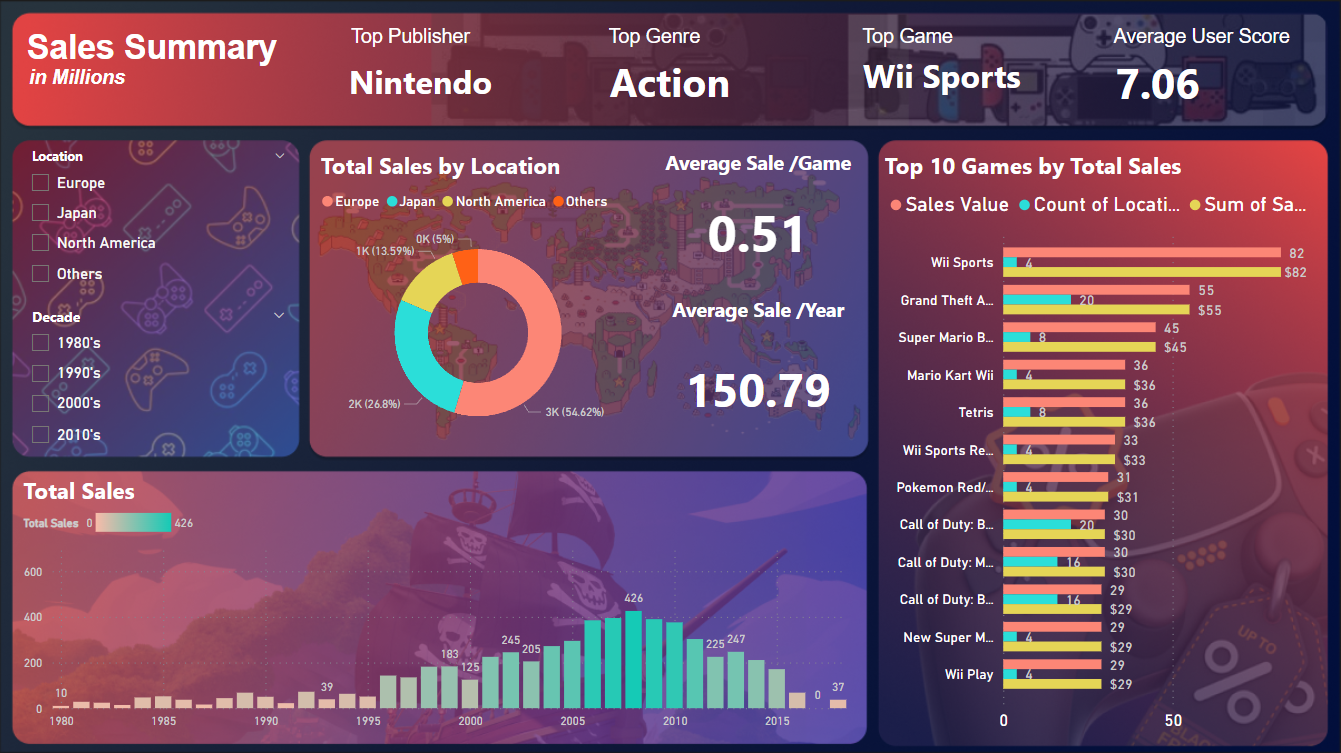

What the dashboard file says about the page in this screenshot:
{"tool":"powerbi","page":{"name":"Sales Summary","canvas":[1280,720],"ordinal":0},"visuals":[{"type":"columnChart","title":"Total Sales","fields":{"Y":["Sales.Total Sales"],"Category":["Games.Year_of_Release"]},"box":[26.2,453.4,798.5,249.9],"z":0},{"type":"card","title":"Top Publisher","fields":{"Values":["Min(Games.Publisher)"]},"box":[291.6,21.4,232.1,109.5],"z":2000},{"type":"textbox","box":[19.7,10.6,254.8,109.2],"z":3000},{"type":"card","title":"Top Genre","fields":{"Values":["Min(Games.Genre)"]},"box":[533.2,21.4,177.3,109.5],"z":5000},{"type":"card","title":"Average Sale /Year","fields":{"Values":["Averages.Avg Sales /Year"]},"box":[630.7,283.2,188,151.1],"z":6000},{"type":"card","title":"Average Sale /Game","fields":{"Values":["Averages.Avg Sales /Game"]},"box":[630.7,144,188,132.1],"z":7000},{"type":"card","title":"Top Game","fields":{"Values":["Min(Games.Game Name)"]},"box":[724.8,22.6,338,109.5],"z":8000},{"type":"card","title":"Average User Score","fields":{"Values":["Averages.Avg Critic Score"]},"box":[1073.5,22.6,188,109.5],"z":9000},{"type":"donutChart","fields":{"Category":["Sales.Location ID"],"Y":["Sales.Total Sales"]},"box":[303.5,144,309.4,289.2],"z":10000},{"type":"clusteredBarChart","title":"Top 10 Games by Total Sales","fields":{"Category":["Games.Game Name"],"Y":["Sum(Sales.Sales Value)","CountNonNull(Sales.Location ID)","Sum(Games.Sale of Game)"]},"box":[840.2,144,421.3,559.3],"z":11000},{"type":"slicer","fields":{"Values":["Sales.Location"]},"box":[32.1,144,254.7,145.2],"z":11001},{"type":"slicer","fields":{"Values":["Games.Decade"]},"box":[32,289,255,150],"z":11002}]}

Visuals, with their boxes in screenshot pixels (x1, y1, x2, y2), scaled from the page's 1280x720 canvas onto the 1341x753 screenshot:
"Total Sales" columnChart: 27,474,864,736
"Top Publisher" card: 305,22,549,137
textbox: 21,11,288,125
"Top Genre" card: 559,22,744,137
"Average Sale /Year" card: 661,296,858,454
"Average Sale /Game" card: 661,151,858,289
"Top Game" card: 759,24,1113,138
"Average User Score" card: 1125,24,1322,138
donutChart - Sales.Location ID x Sales.Total Sales: 318,151,642,453
"Top 10 Games by Total Sales" clusteredBarChart: 880,151,1322,736
slicer - Sales.Location: 34,151,300,302
slicer - Games.Decade: 34,302,301,459
